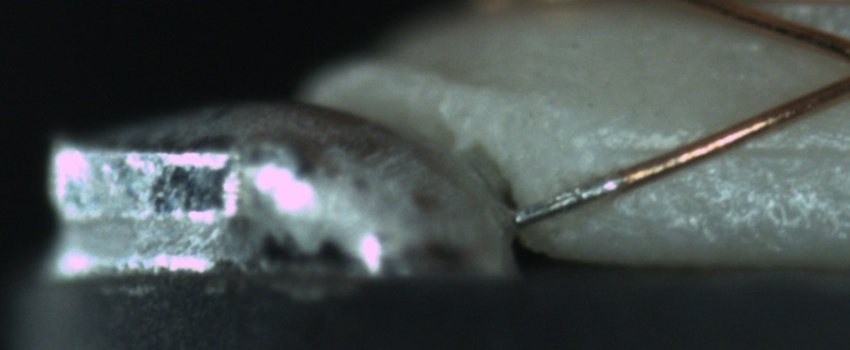DL: (617, 124, 850, 179)
TS: (511, 172, 621, 224)
